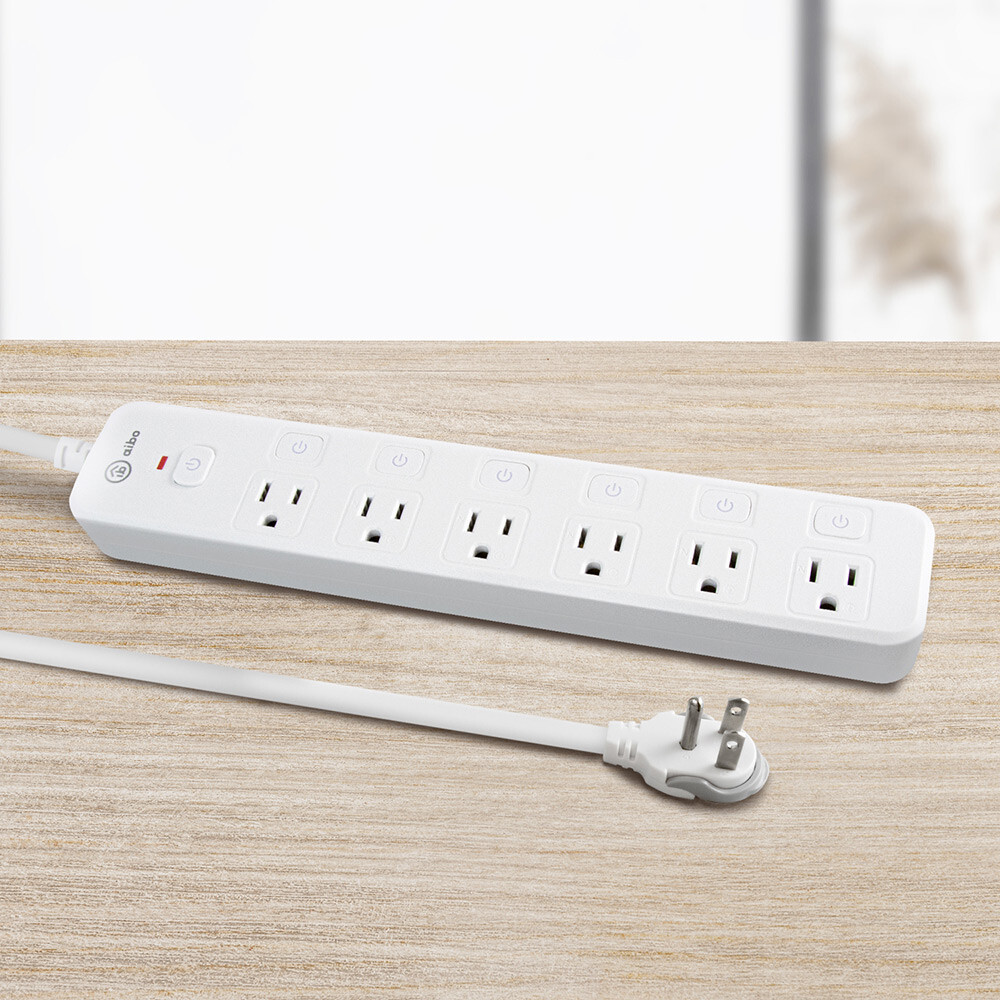socket: (50, 399, 937, 683)
